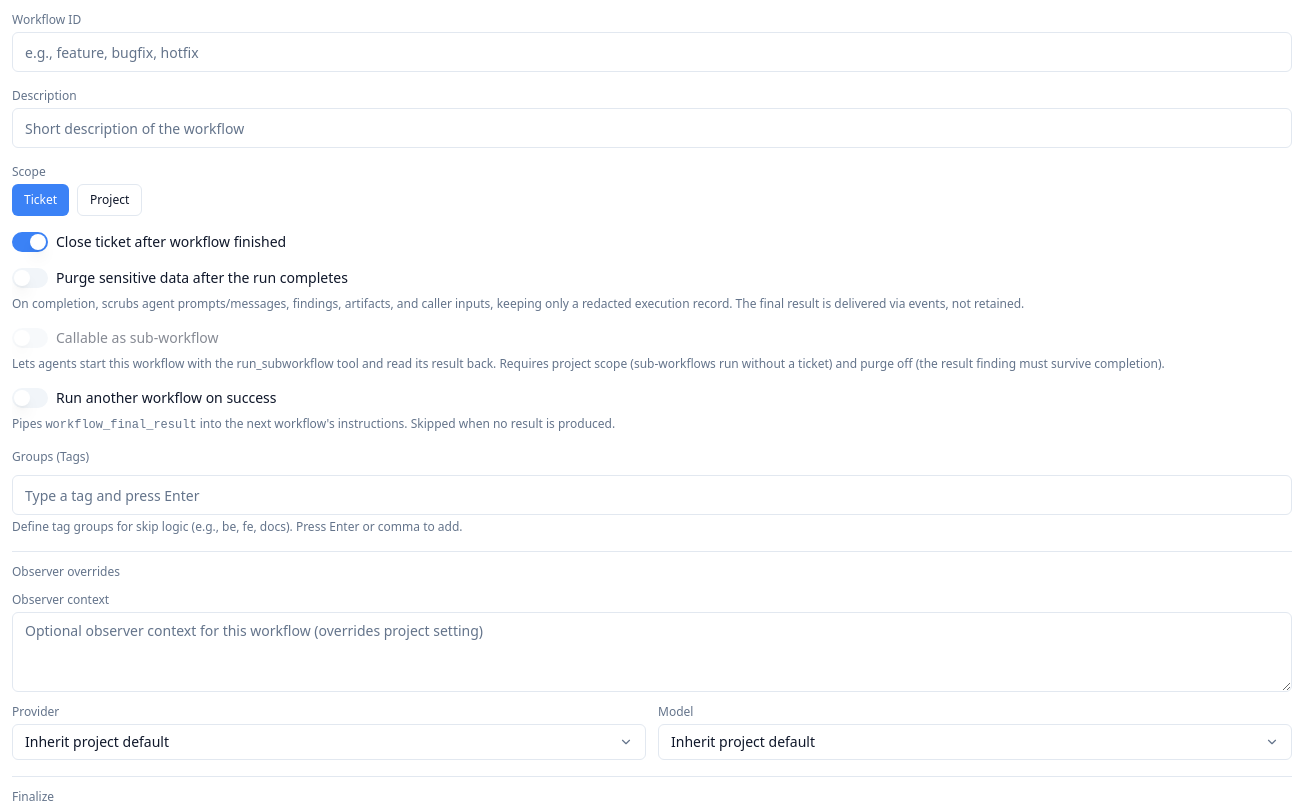
Scenario: WorkflowDefForm › next_workflow_on_success › filters out ticket-scoped workflows from options
The width and height of the screenshot is (1304, 812).
Click the switch named "run another workflow on success" next to "Run another workflow on success" at (30, 398), box [12,388,48,408]
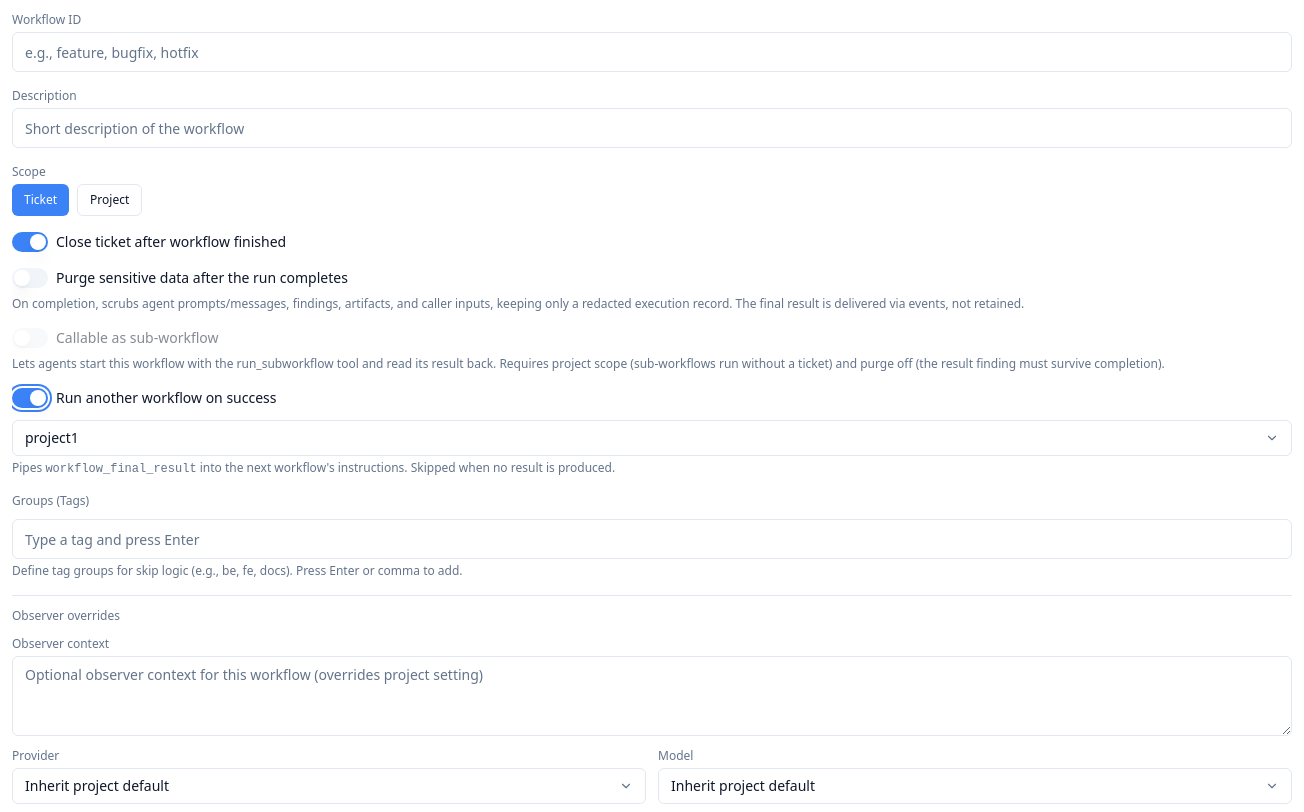
Check: the button "project1" is shown, box [12,420,1292,456]
